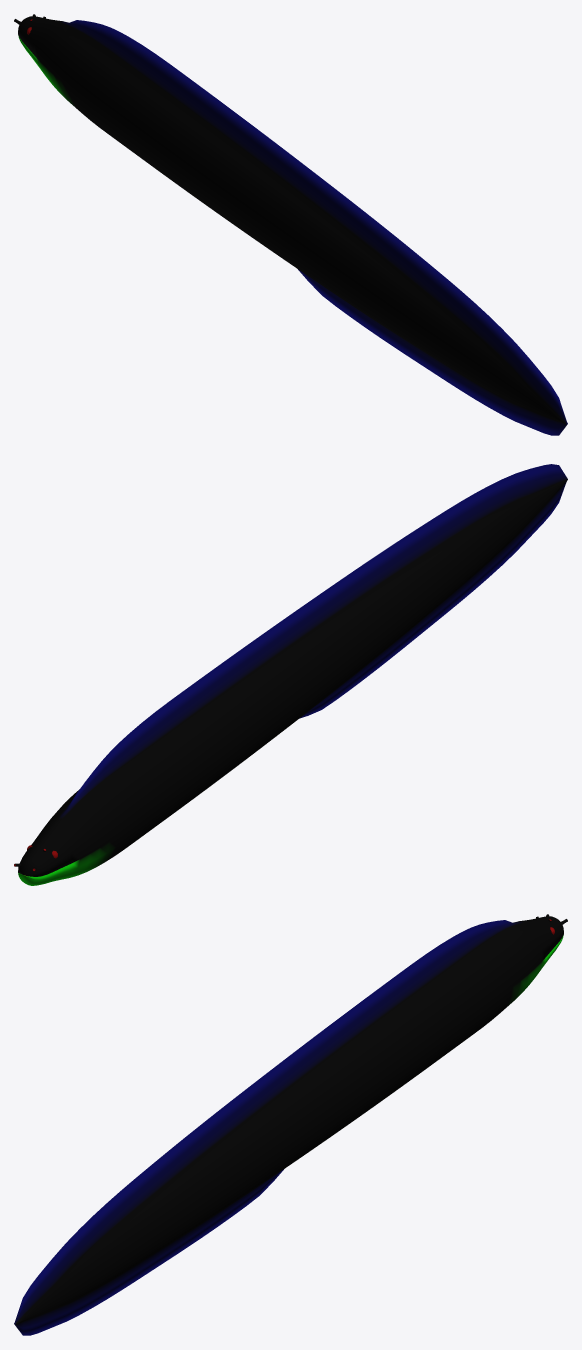
File: moray_eel_lo.glb
3 views of the same model, one above another, from view 1: azimuth 30°, elevation 25°; view 2: azimuth 150°, elevation 25°; view 3: azimuth 330°, elevation 25° (orthographic).
Visible parts, largest first — view 1: moray_eel_lo; view 2: moray_eel_lo; view 3: moray_eel_lo.
Boxes of the visible parts, x1,y1,x2,y2 form: moray_eel_lo: [14, 14, 567, 435]; moray_eel_lo: [14, 464, 567, 885]; moray_eel_lo: [14, 914, 567, 1335].
Bounding box in the file's own units: 0.096 × 0.2215 × 1.8.
